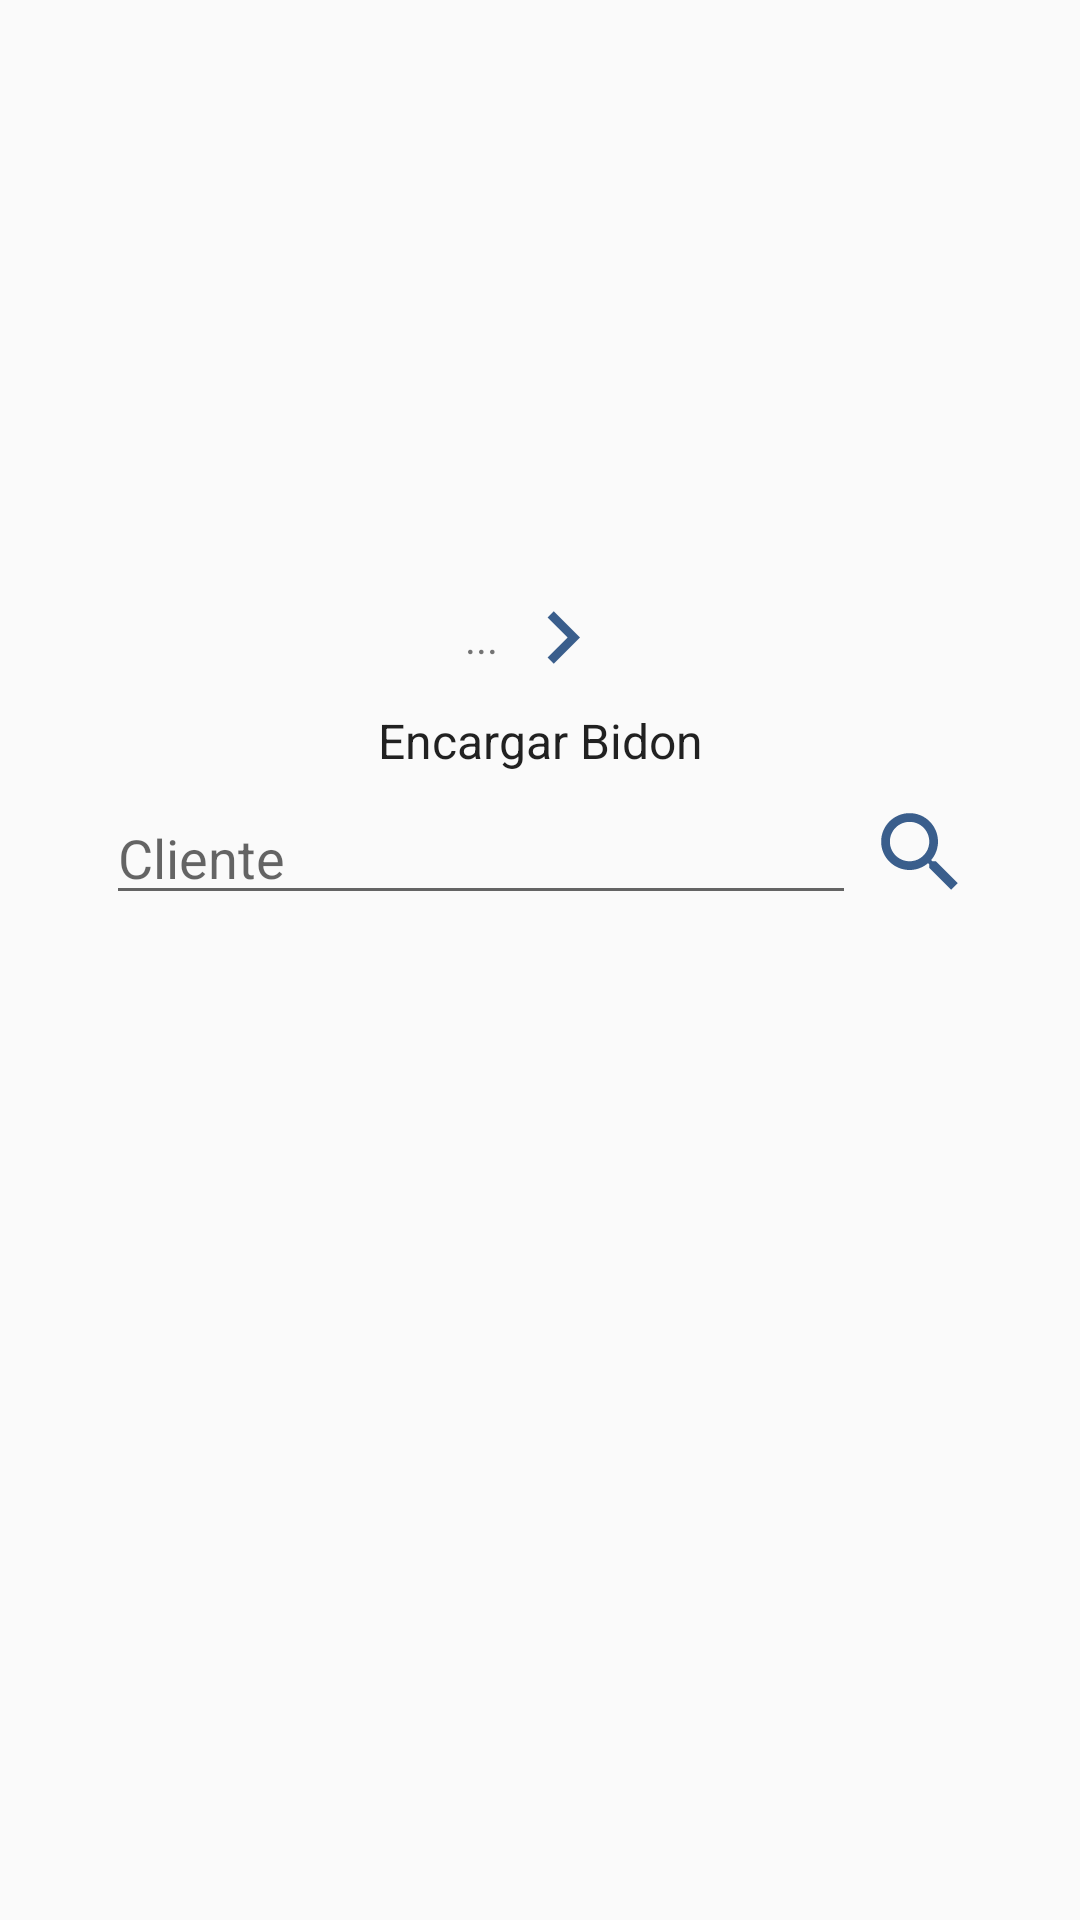

Icons on this 1080 × 1920 Android screen, each with the point to tap as (x,y):
search: (919,851)
sig: (563,637)
